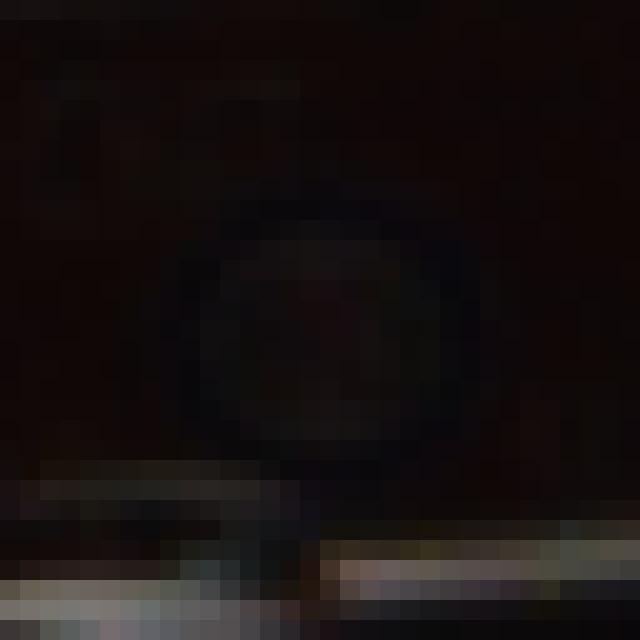SPEED-LIMIT-80: (156, 205, 466, 456)
